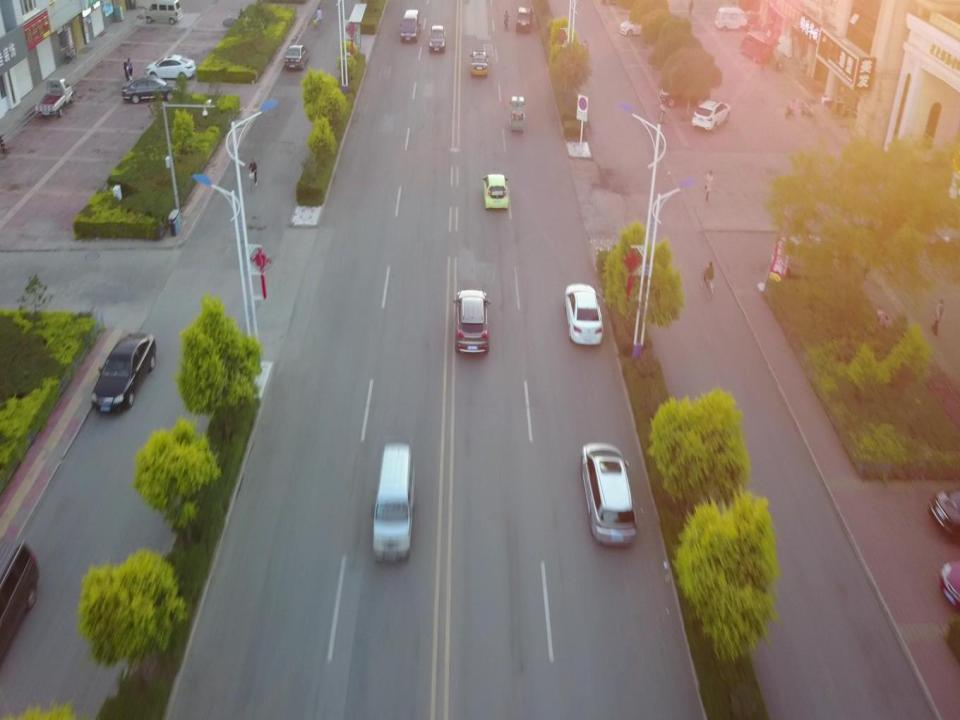car: (0, 522, 65, 664), (570, 430, 642, 558), (365, 437, 423, 562), (88, 321, 160, 414), (450, 275, 497, 372), (559, 266, 610, 348), (688, 92, 736, 135), (473, 166, 512, 216), (611, 15, 679, 41), (119, 77, 183, 104), (145, 50, 198, 79), (282, 36, 315, 80), (468, 45, 496, 85), (712, 6, 751, 31), (427, 19, 450, 55), (514, 4, 536, 40)
truck: (33, 72, 81, 118), (576, 38, 590, 61)
van: (736, 26, 776, 66), (397, 6, 425, 50), (143, 0, 189, 24)
